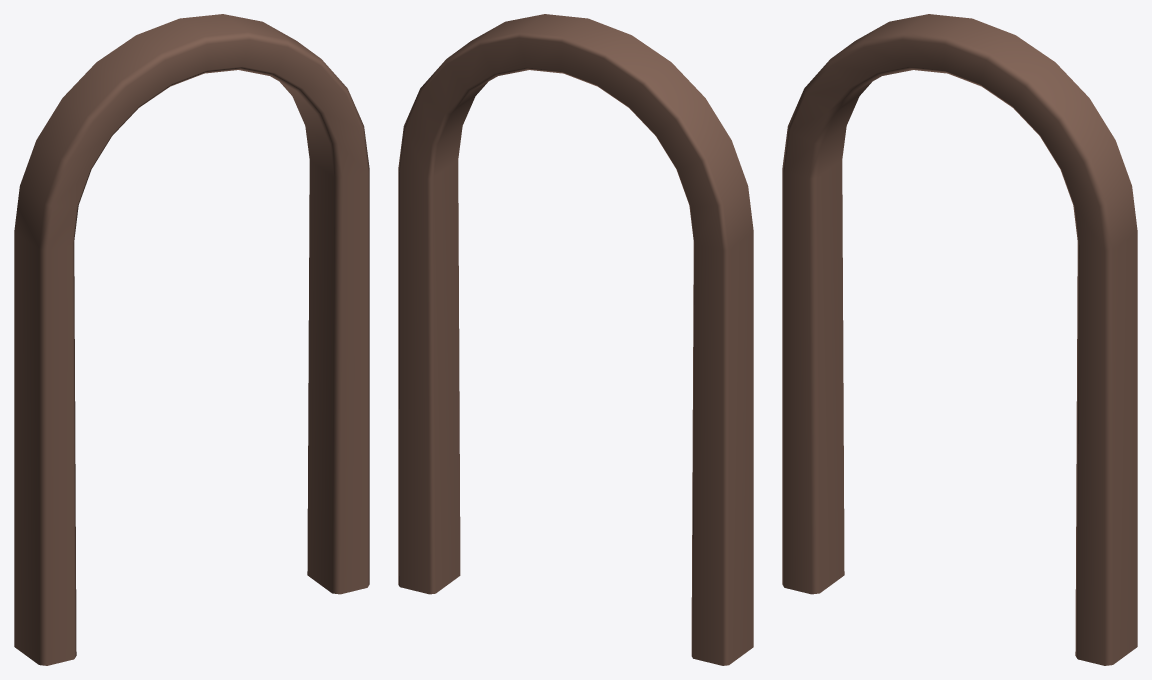
The model's file is door_frame.gltf.
3 views of the same model, side by side, from view 1: azimuth 30°, elevation 25°; view 2: azimuth 150°, elevation 25°; view 3: azimuth 330°, elevation 25° (orthographic).
Visible parts, largest first — view 1: Cube; view 2: Cube; view 3: Cube.
Part boxes in pixels (x1,y1,x2,y2): Cube: [14, 14, 369, 665]; Cube: [398, 14, 753, 665]; Cube: [782, 14, 1137, 665].
Bounding box in the file's own units: 1.45 × 2.46 × 0.2271.
